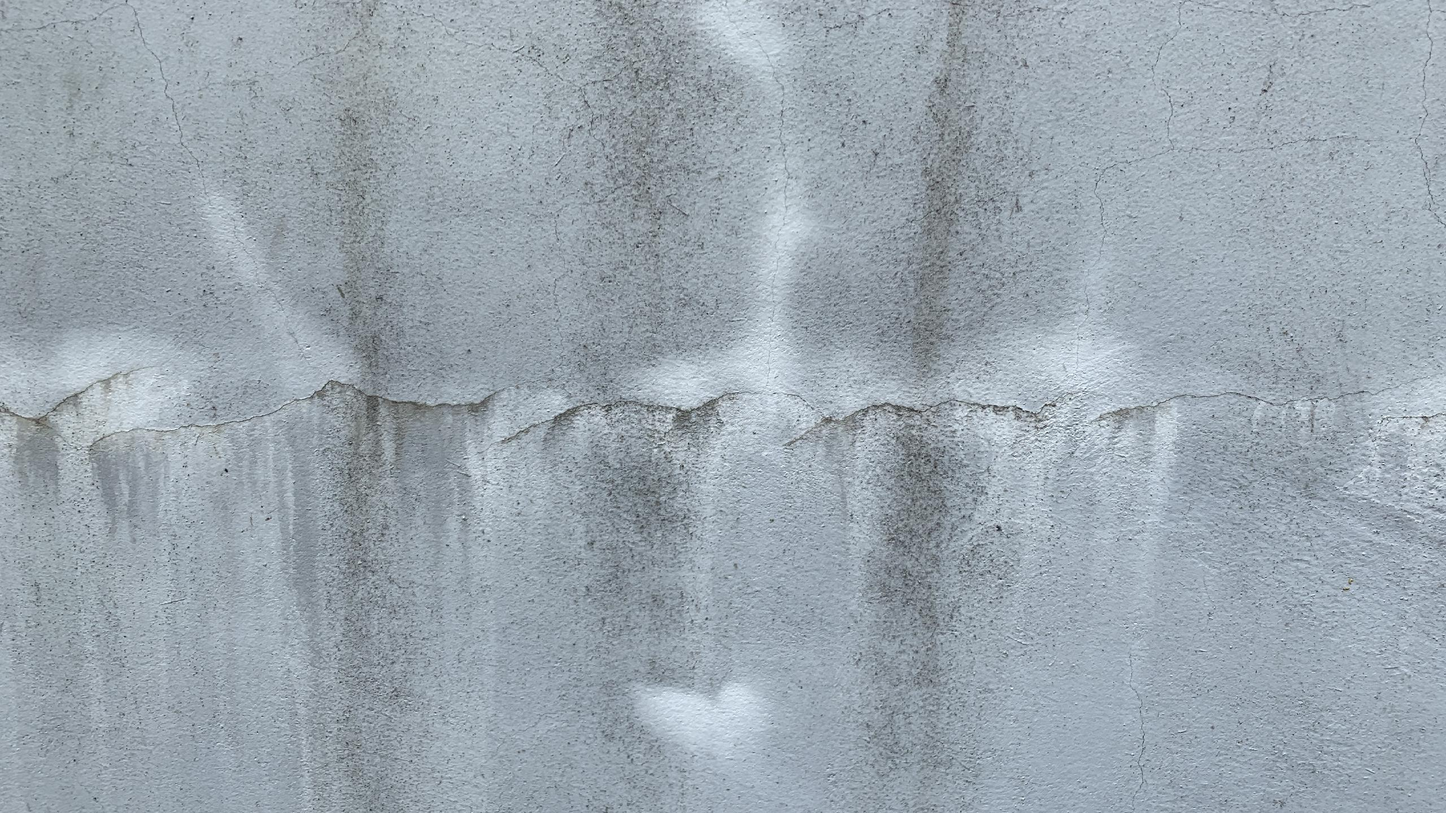crack: (513, 385, 1038, 446), (119, 375, 492, 440), (1094, 381, 1294, 432), (8, 365, 128, 432)
